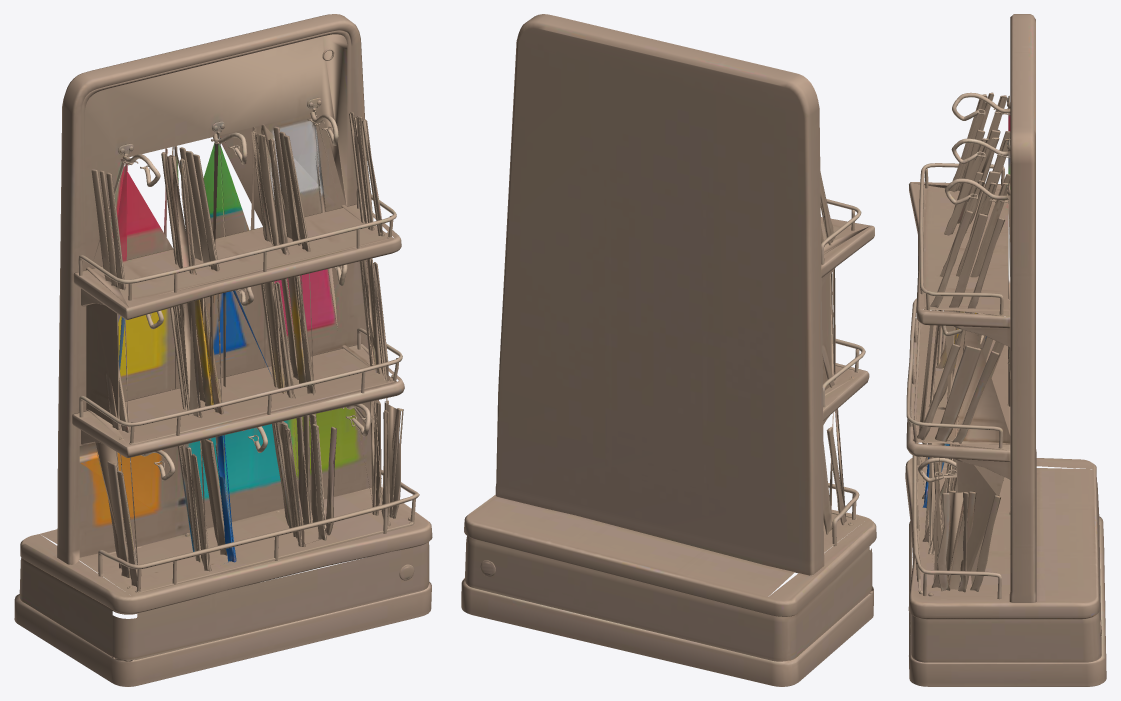
The model's file is toonstudio_stationery_display.glb.
3 views of the same model, side by side, from view 1: azimuth 30°, elevation 25°; view 2: azimuth 150°, elevation 25°; view 3: azimuth 270°, elevation 25° (orthographic). The views are drawn at different scales.
Visible parts, largest first — view 1: cf464d17_3bfd_4fd5_b364_68b8d2d48bc5; view 2: cf464d17_3bfd_4fd5_b364_68b8d2d48bc5; view 3: cf464d17_3bfd_4fd5_b364_68b8d2d48bc5.
Part boxes in pixels (x1,y1,x2,y2): cf464d17_3bfd_4fd5_b364_68b8d2d48bc5: [14, 14, 432, 686]; cf464d17_3bfd_4fd5_b364_68b8d2d48bc5: [461, 14, 876, 686]; cf464d17_3bfd_4fd5_b364_68b8d2d48bc5: [905, 14, 1106, 686].
Bounding box in the file's own units: 0.9763 × 1.6 × 0.5432.
Materials: 1 (1 with a texture image).
